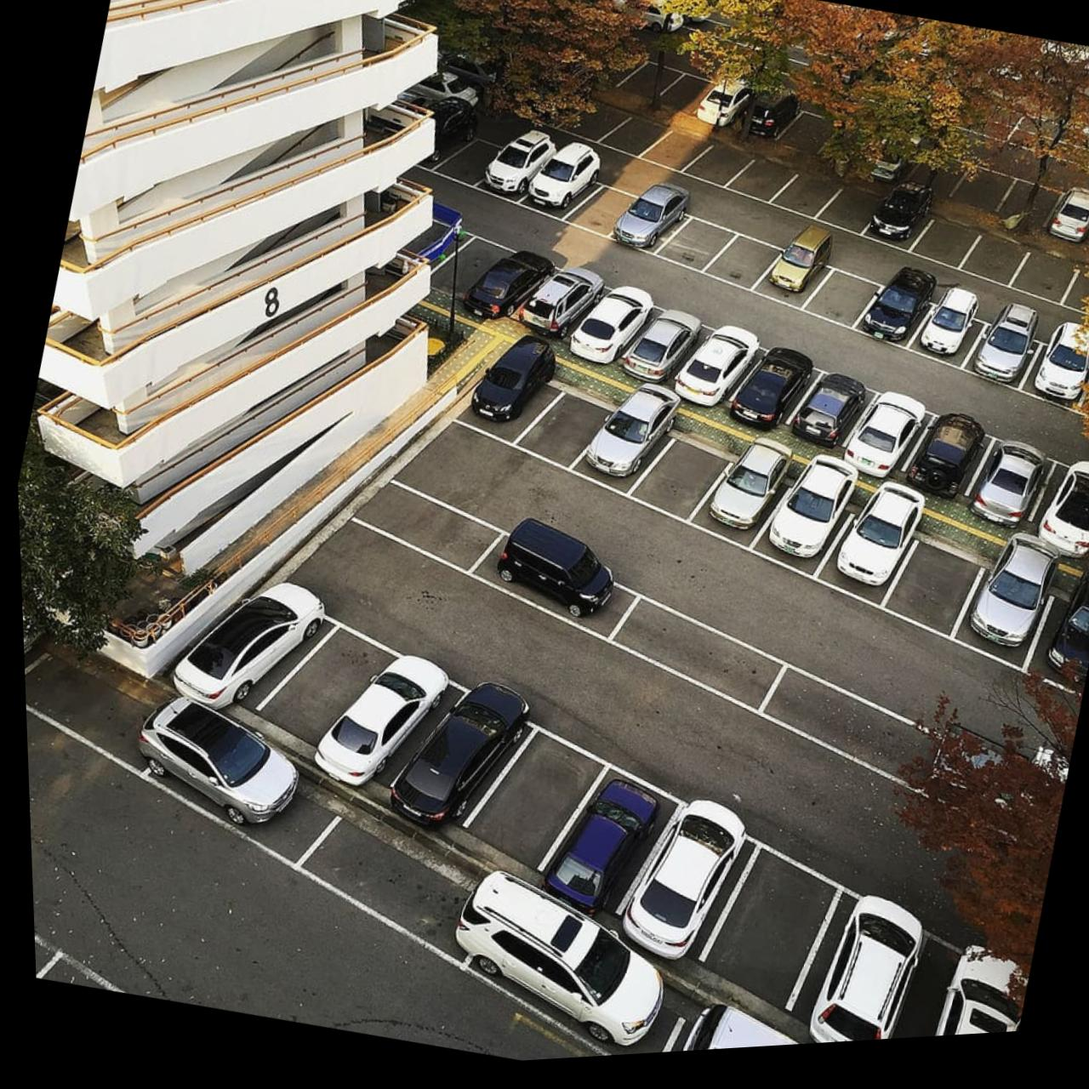cars: (434, 870, 702, 1065), (277, 788, 507, 981), (126, 685, 340, 870), (442, 506, 663, 644), (543, 747, 681, 929), (792, 880, 944, 1044), (622, 789, 754, 974), (395, 673, 528, 853), (182, 564, 323, 730), (333, 638, 449, 824), (822, 469, 939, 625), (956, 528, 1062, 690), (439, 330, 566, 453), (764, 446, 868, 591), (715, 324, 831, 451), (581, 376, 681, 518), (698, 425, 795, 565), (897, 939, 1034, 1038), (666, 995, 902, 1052), (955, 422, 1064, 544), (833, 375, 956, 483), (606, 290, 721, 402), (778, 358, 886, 470), (892, 403, 999, 511), (566, 274, 673, 381), (457, 232, 561, 338), (672, 314, 776, 420), (504, 142, 613, 237), (596, 182, 697, 277), (958, 306, 1055, 404), (742, 231, 841, 325), (476, 115, 568, 216), (519, 251, 608, 355), (1026, 443, 1089, 578), (906, 288, 993, 385), (852, 270, 942, 363), (1019, 326, 1089, 423), (860, 178, 941, 260), (723, 75, 805, 153), (944, 152, 1023, 230), (688, 63, 760, 140), (991, 172, 1064, 242)
empty: (745, 657, 960, 791), (603, 582, 803, 719), (701, 847, 842, 1023), (469, 702, 605, 881), (246, 602, 379, 771), (23, 624, 161, 783), (351, 458, 494, 582), (881, 510, 988, 659), (632, 401, 735, 538), (520, 374, 622, 490), (425, 211, 517, 322), (421, 103, 527, 197), (639, 197, 744, 288), (551, 167, 654, 258), (801, 256, 890, 347), (705, 221, 789, 301), (948, 225, 1037, 297), (760, 99, 845, 174), (904, 202, 987, 278), (1003, 242, 1088, 316), (808, 173, 896, 243), (635, 112, 716, 188), (606, 44, 686, 114), (561, 87, 636, 155), (726, 148, 802, 215), (769, 158, 845, 224), (603, 104, 673, 171), (645, 57, 714, 124), (1030, 181, 1089, 259), (687, 135, 754, 199)
